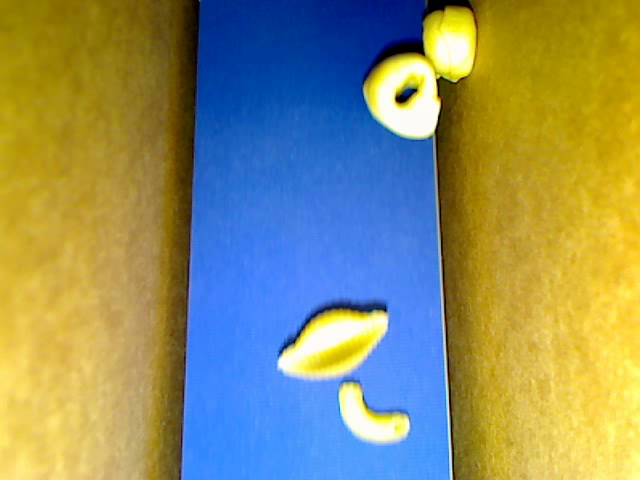elbow: (338, 382, 412, 443)
shell: (275, 309, 389, 381)
tortellini: (362, 52, 441, 139)
